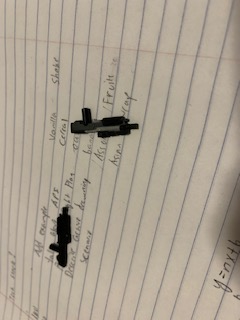rifle: (69, 107, 140, 141), (49, 204, 73, 271)
